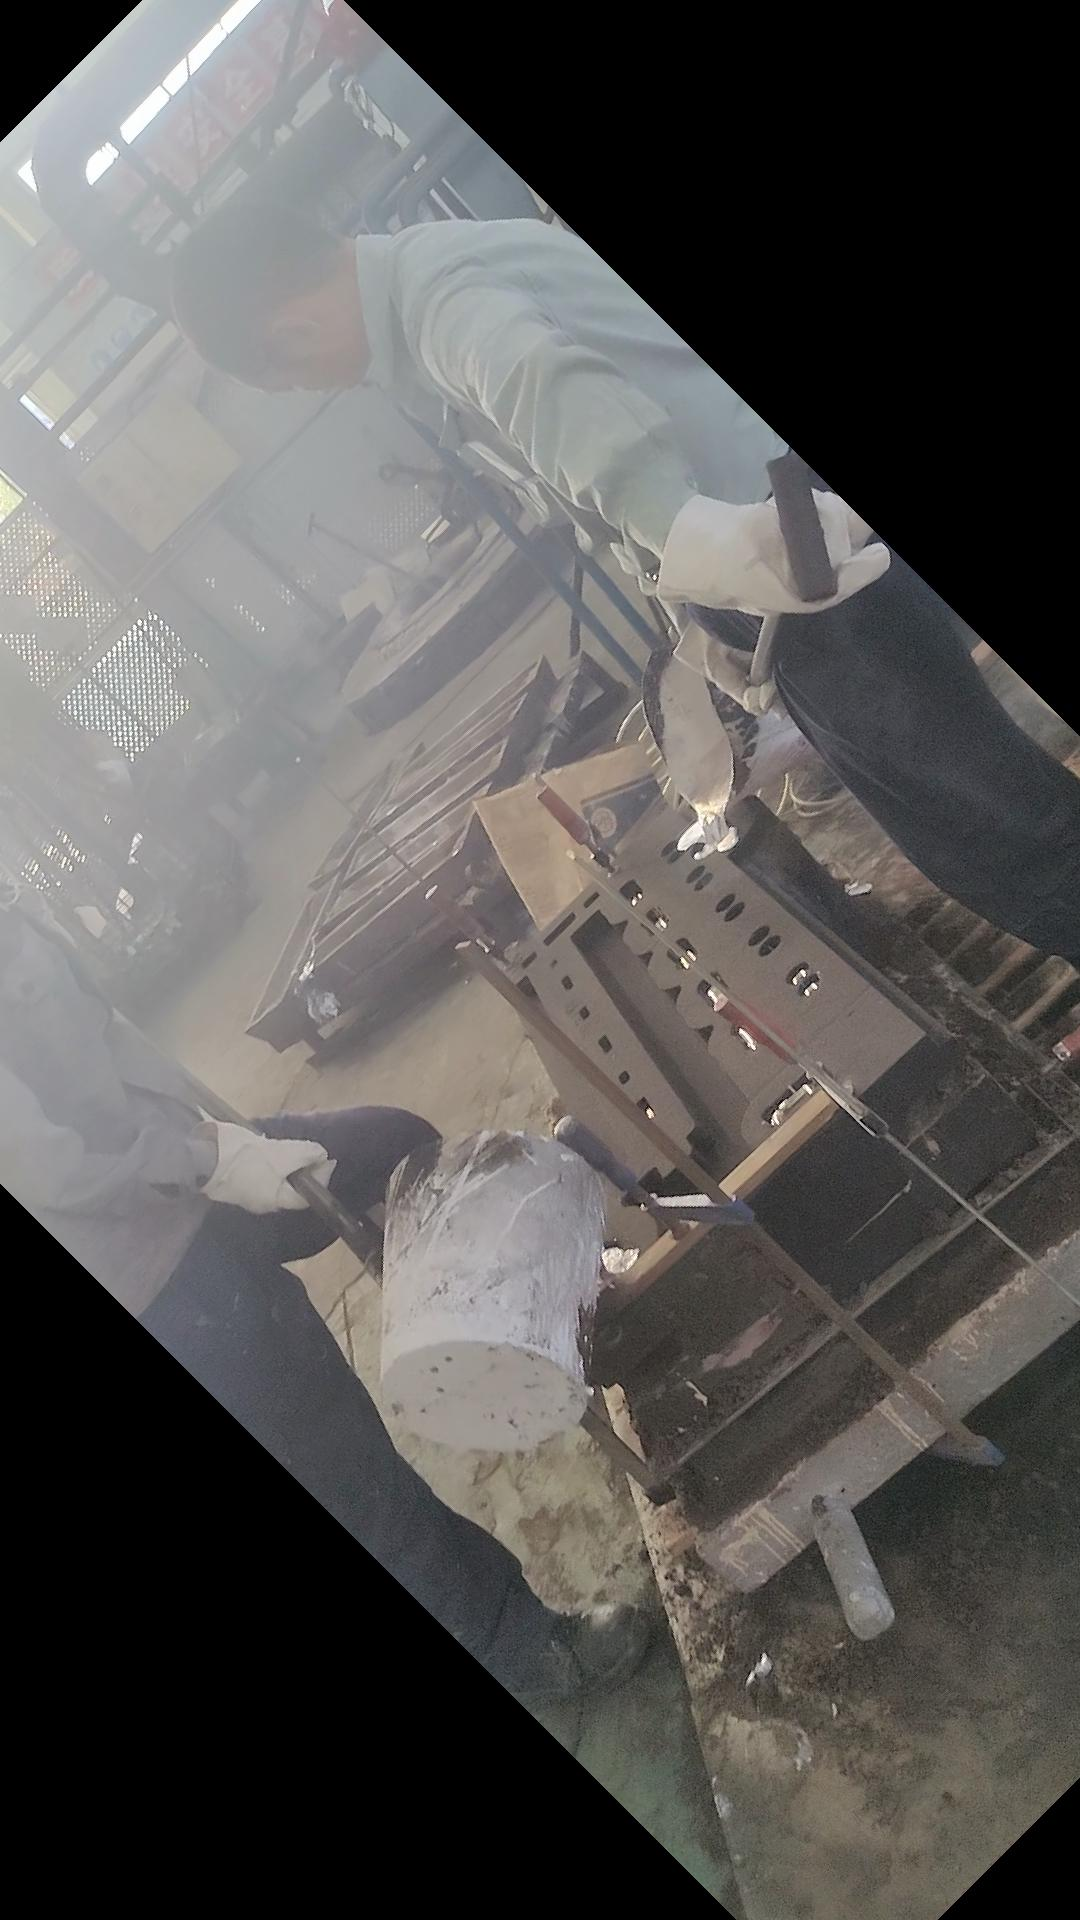pouring hole: (576, 1241, 624, 1280), (691, 818, 735, 856)
